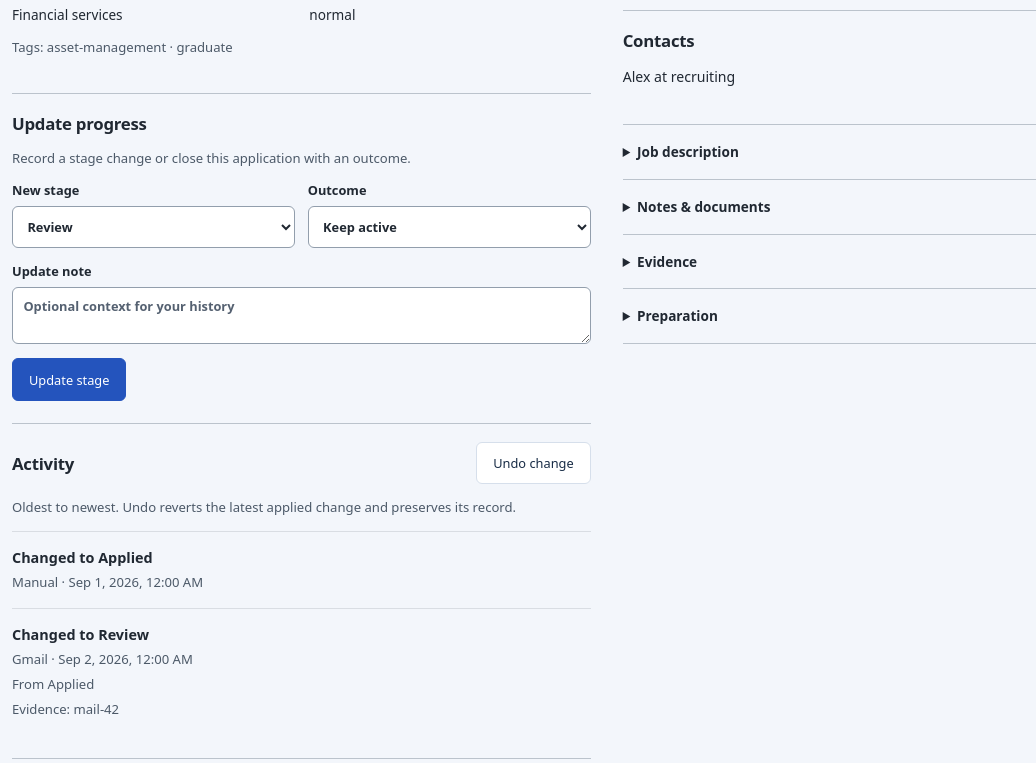
rejects a stage no-op without adding history
The image size is (1036, 763).
(page scrolled)
Check: the dropdown labelled "New stage" is shown, box [12,206,295,248]
Click the button "Update stage".
click(69, 380)  # box [12,358,126,401]
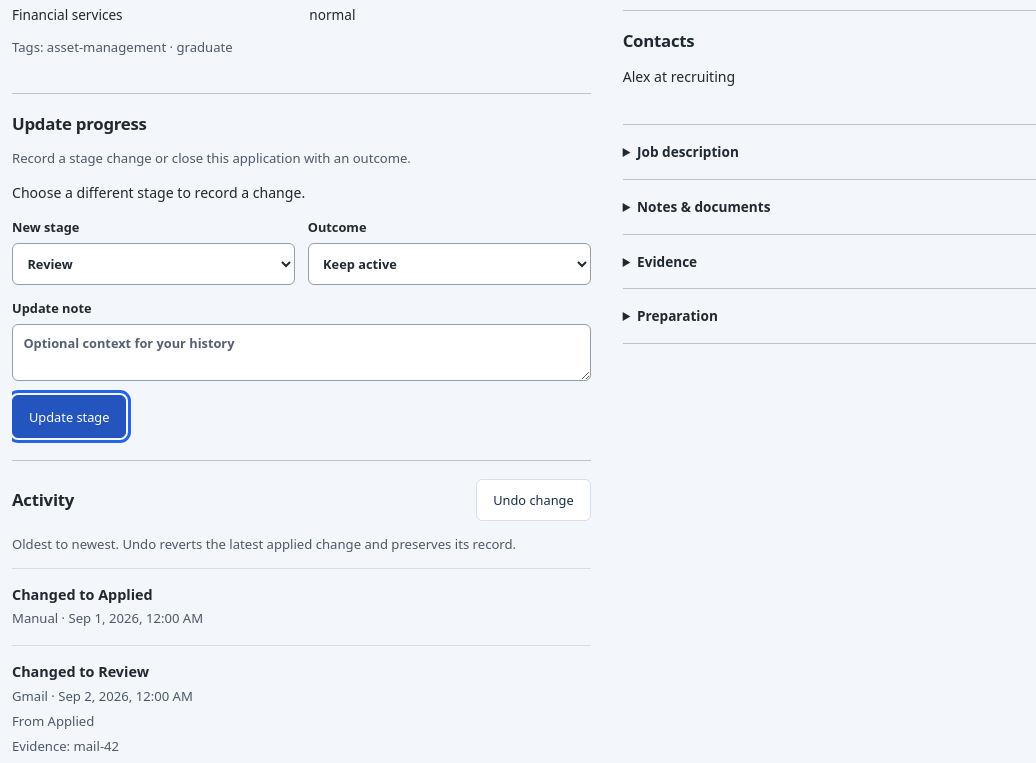
Check: the message shows "Choose a different stage", box [12,183,305,202]
